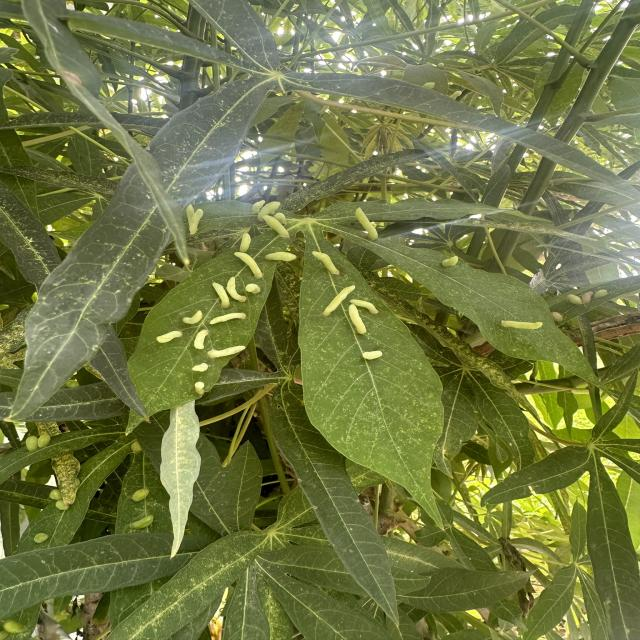Mosca: (306, 277, 387, 333), (225, 229, 305, 279), (208, 266, 267, 329), (240, 193, 296, 242), (344, 196, 391, 251), (199, 328, 252, 371), (128, 482, 164, 539), (172, 305, 208, 353), (42, 479, 90, 512), (183, 357, 220, 398), (307, 243, 347, 279), (177, 195, 208, 238), (140, 326, 187, 354), (564, 286, 610, 313), (425, 242, 461, 274), (351, 345, 399, 367), (499, 314, 547, 335), (5, 612, 40, 640), (125, 430, 155, 461), (14, 432, 62, 449), (26, 529, 54, 556), (537, 299, 568, 322)
